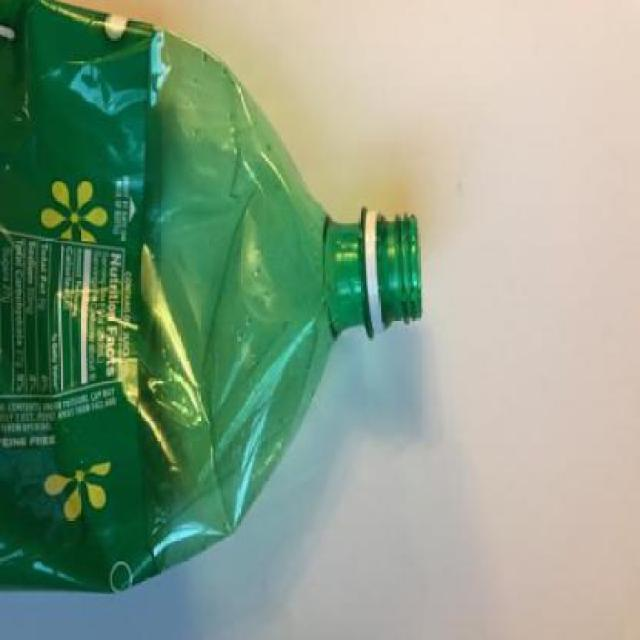PLASTIC: (2, 2, 423, 596), (1, 2, 162, 589)
